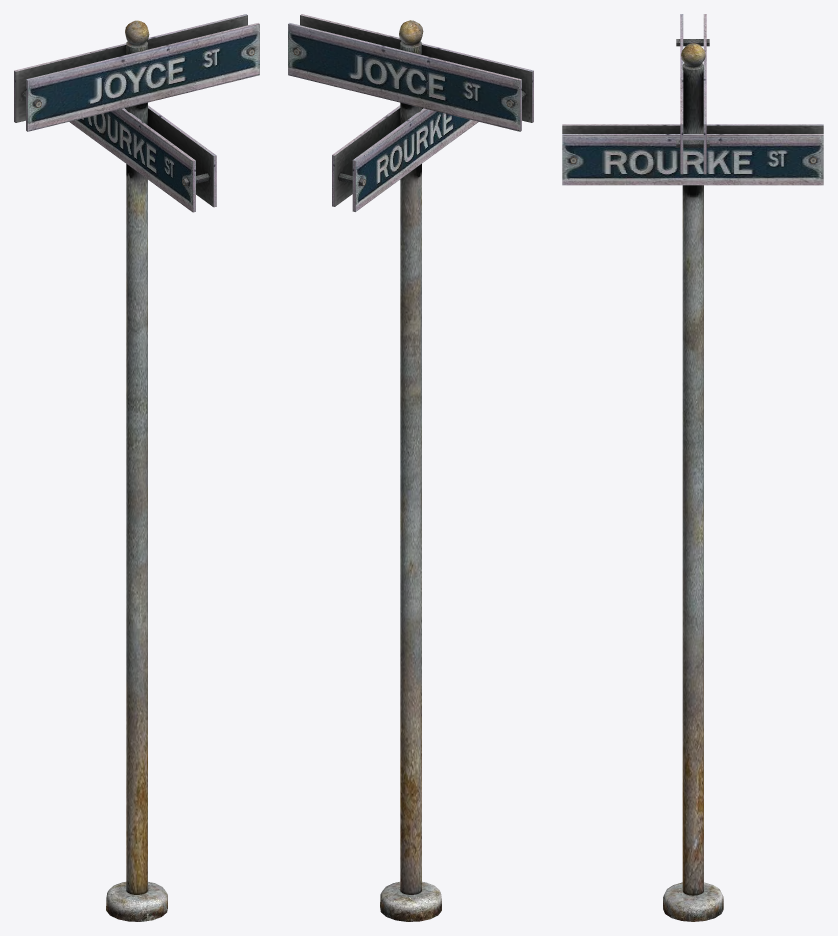
File: streetsign01.glb
3 renders of one model, left to right at view 1: azimuth 30°, elevation 25°; view 2: azimuth 150°, elevation 25°; view 3: azimuth 270°, elevation 25°, orthographic. The views are drawn at different scales.
Parts seen in each view (by area): view 1: 0_StreetSigns01; view 2: 0_StreetSigns01; view 3: 0_StreetSigns01.
Part boxes in pixels (x1,y1,x2,y2): 0_StreetSigns01: (14, 14, 259, 921); 0_StreetSigns01: (288, 14, 533, 921); 0_StreetSigns01: (562, 14, 823, 921).
Size of the model in its own units: 0.773 by 2.82 by 0.773.
Materials: 1 (1 with a texture image).
